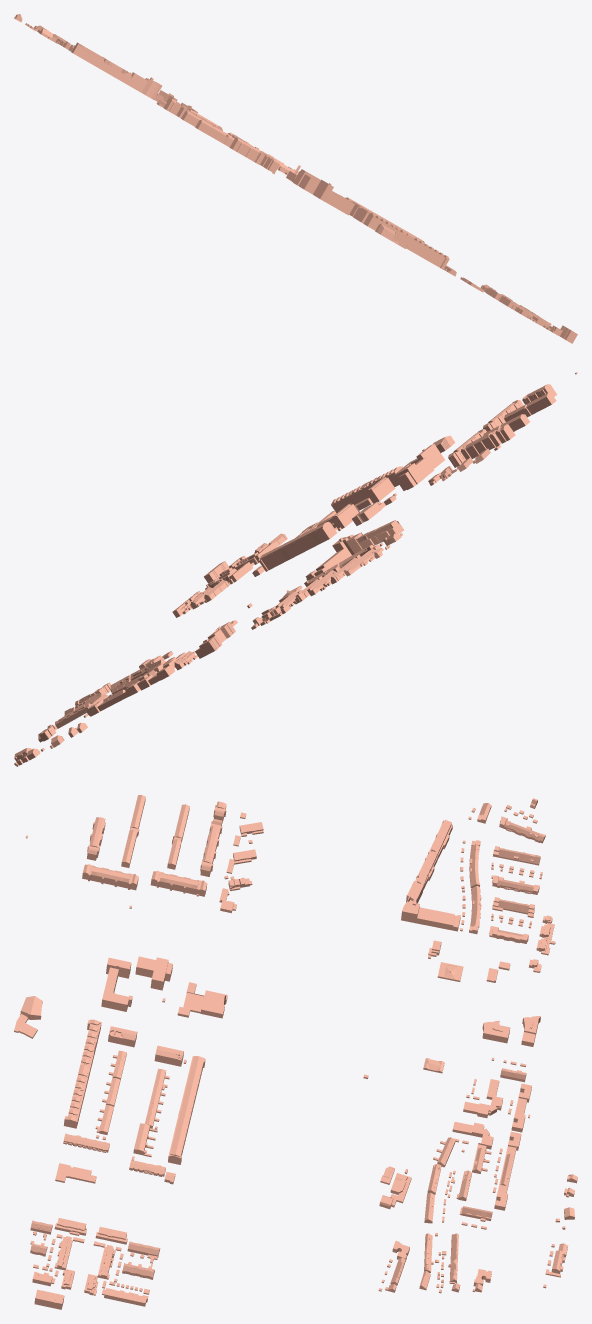
3 views of the same model, one above another, from view 1: azimuth 30°, elevation 25°; view 2: azimuth 150°, elevation 25°; view 3: azimuth 270°, elevation 25° (orthographic). The views are drawn at different scales.
Size of the model in its own units: 534 by 394 by 619.
